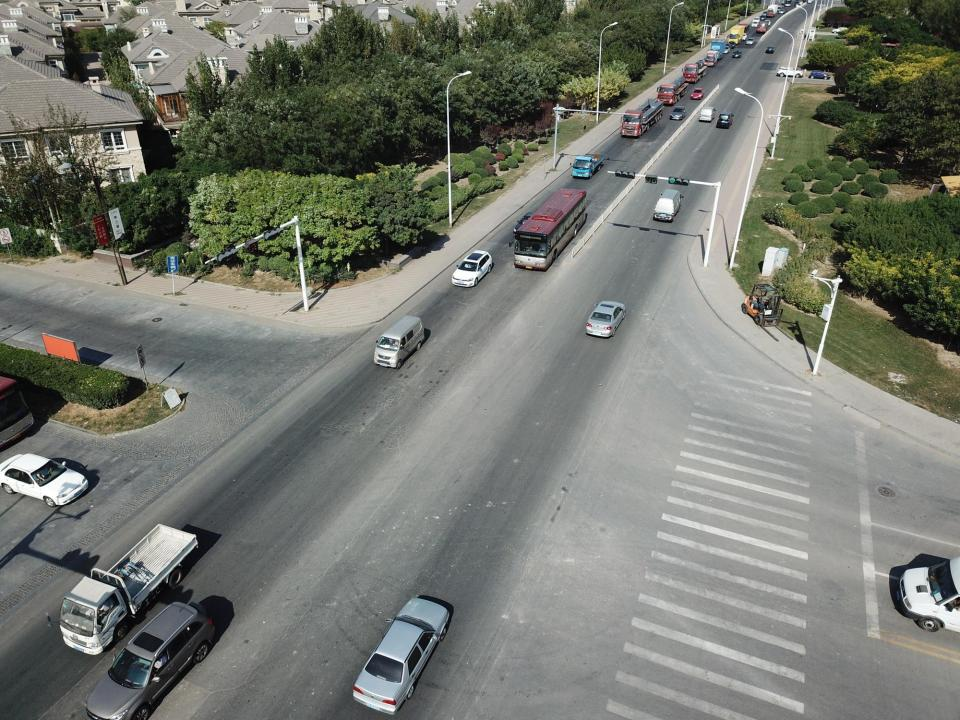bus: (506, 185, 587, 274), (736, 22, 751, 36)
car: (77, 600, 217, 720), (348, 596, 452, 714), (0, 452, 92, 508), (450, 249, 492, 289), (583, 300, 627, 338), (669, 105, 688, 121), (688, 87, 706, 101), (831, 26, 849, 34), (732, 49, 742, 58), (765, 46, 775, 54), (745, 37, 755, 45), (720, 45, 730, 53), (738, 32, 748, 40), (726, 42, 736, 49), (762, 19, 772, 26), (721, 42, 731, 48), (753, 16, 760, 23), (751, 21, 758, 27)
truck: (44, 522, 198, 654), (617, 98, 666, 138), (648, 186, 687, 222), (656, 75, 689, 106), (570, 153, 604, 179), (681, 60, 709, 83), (708, 36, 727, 58), (727, 26, 745, 46), (703, 50, 720, 68), (756, 19, 768, 33)
van: (894, 556, 960, 634), (370, 313, 428, 371), (714, 111, 736, 129), (698, 106, 717, 122), (776, 67, 804, 77), (808, 70, 833, 80)
